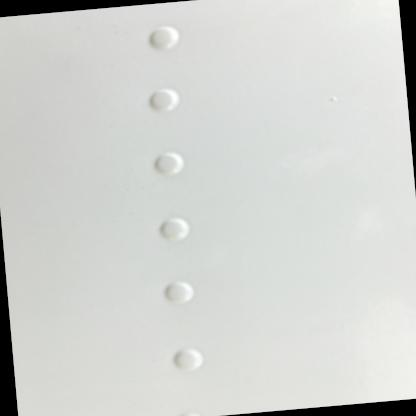Nocrack: (10, 1, 410, 413)
